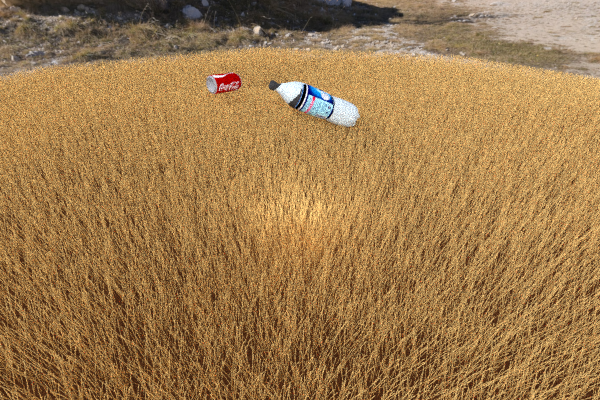bottle: (268, 80, 359, 127)
can: (206, 72, 241, 94)
